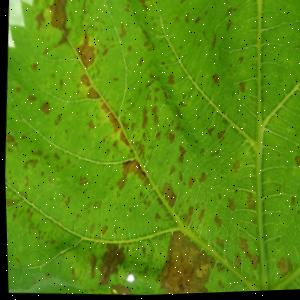Folha: (0, 0, 300, 300)
Fungo: (151, 229, 216, 296), (41, 0, 70, 50), (93, 242, 124, 287), (113, 158, 149, 193), (73, 29, 96, 69), (234, 238, 258, 272), (153, 182, 175, 210), (272, 256, 288, 280), (85, 252, 95, 279), (37, 100, 50, 116), (135, 0, 152, 12), (176, 145, 185, 165), (291, 155, 300, 171), (122, 272, 134, 284), (229, 159, 239, 173), (225, 198, 234, 213), (230, 254, 239, 269), (210, 74, 219, 88), (211, 215, 220, 229), (243, 200, 254, 211), (236, 83, 245, 95), (76, 176, 85, 186)
